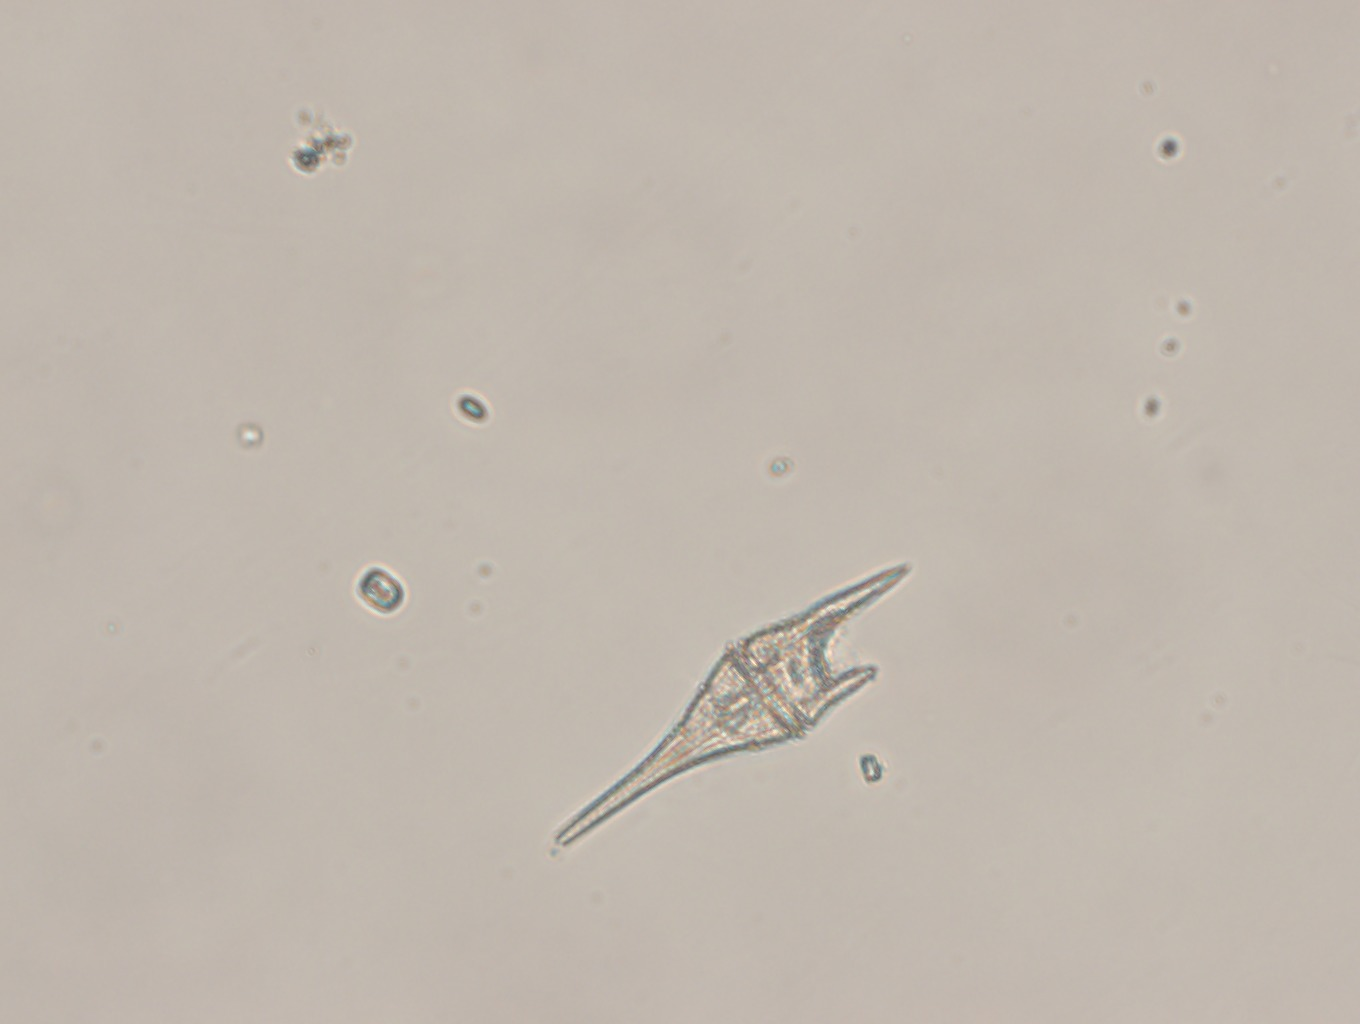ceratium fusus: (553, 564, 913, 852)
